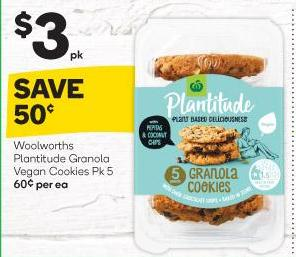description_block: (6, 139, 120, 180)
price_main: (7, 2, 88, 65)
product_image_block: (129, 15, 288, 254)
promo_text_block: (3, 68, 130, 134)
unit_price_block: (6, 177, 73, 192)
